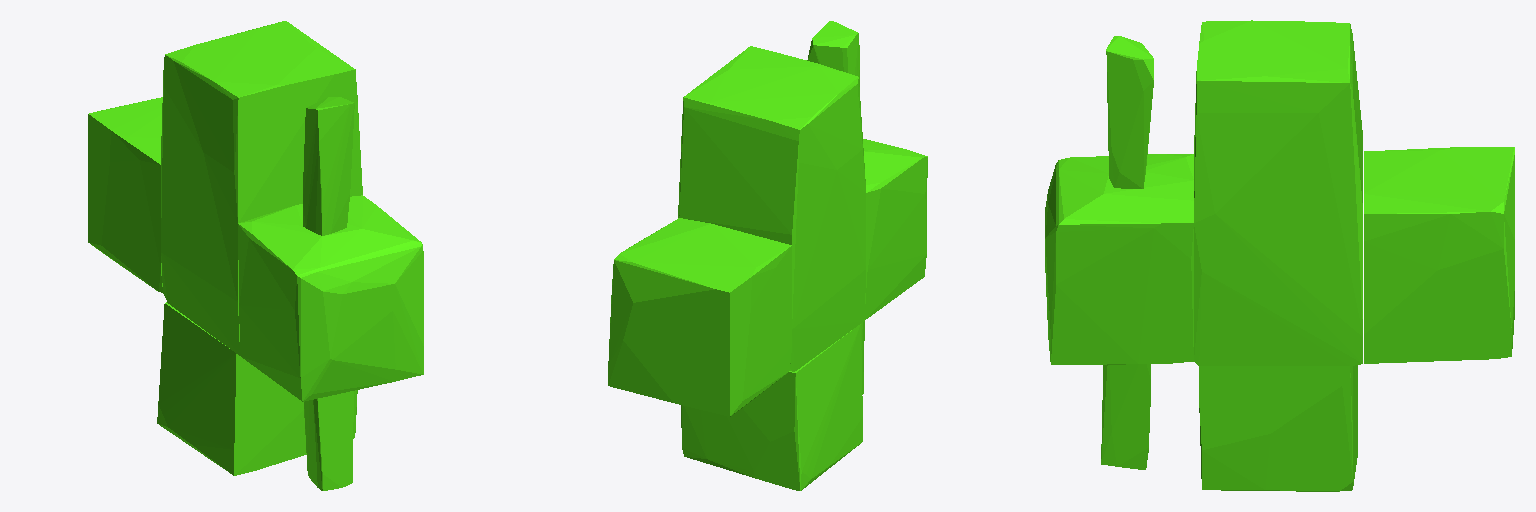
URDF robot description (blob535):
<robot name="blob535">
  <link name="random_obj_535">
    <contact>
      <lateral_friction value="1.0"/>
      <rolling_friction value="0.0"/>
      <inertia_scaling value="3.0"/>
      <contact_cfm value="0.0"/>
      <contact_erp value="1.0"/>
    </contact>
    <inertial>
      <origin rpy="0 0 0" xyz="0 0 0"/>
      <mass value="0.1"/>
      <inertia ixx="1" ixy="0" ixz="0" iyy="1" iyz="0" izz="0"/>
    </inertial>
    <visual>
      <origin rpy="0 0 0" xyz="0 0 0"/>
      <geometry>
        <mesh filename="535.obj" scale="0.015 0.015 0.015"/>
      </geometry>
      <material name="blockmat">
        <color rgba="0.41 0.98 0.15 1"/>
      </material>
    </visual>
    <collision>
      <origin rpy="0 0 0" xyz="0 0 0"/>
      <geometry>
        <mesh filename="535.obj" scale="0.015 0.015 0.015"/>
      </geometry>
    </collision>
  </link>
</robot>

--- What the picture shows (computed from the rendered views, not written in the file) ---
3 views of the same robot in one strip: view 1: azimuth 30°, elevation 25°; view 2: azimuth 150°, elevation 25°; view 3: azimuth 270°, elevation 25° (orthographic).
Robot: blob535 — 1 links, 0 joints (none); root link random_obj_535; default pose: all joints at 0.
Visible links, largest first — view 1: random_obj_535; view 2: random_obj_535; view 3: random_obj_535.
Link boxes in pixels (x1,y1,x2,y2): random_obj_535: (88, 21, 423, 490); random_obj_535: (608, 21, 927, 490); random_obj_535: (1045, 20, 1514, 491).
Bounding box of the posed robot: 0.0331 × 0.0931 × 0.0931 m (x, y, z).
1 mesh visuals loaded from 1 distinct referenced files (1 OBJ).